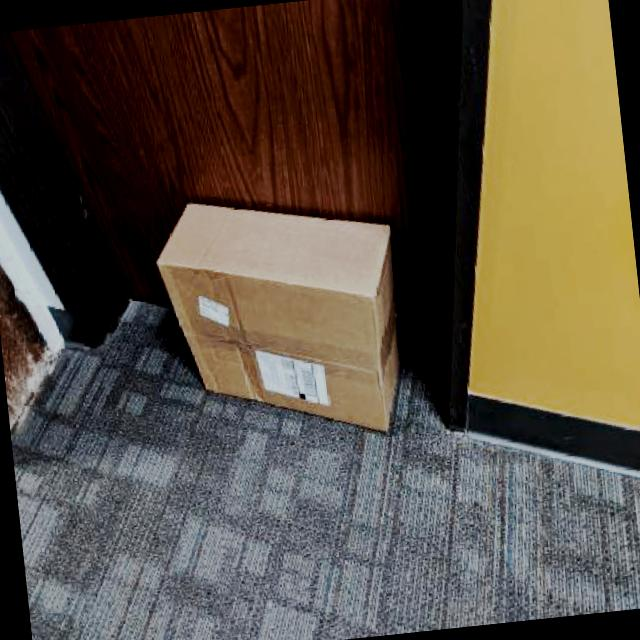Box: (144, 172, 418, 458)
